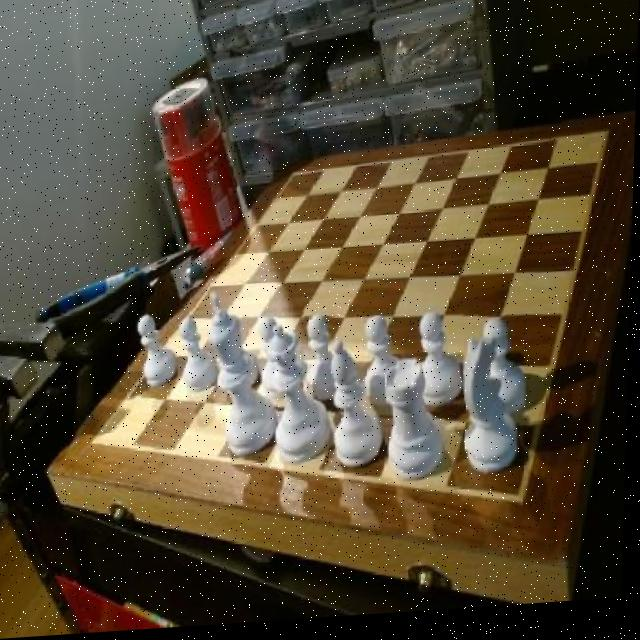black-rook: (331, 324, 384, 481)
white-bishop: (205, 283, 282, 466)
white-king: (458, 344, 525, 492)
white-knight: (478, 315, 532, 430), (412, 312, 468, 417), (358, 317, 408, 415), (304, 321, 346, 413), (137, 313, 180, 401), (182, 314, 215, 399), (259, 321, 289, 405)
white-pawn: (272, 310, 335, 474)
white-queen: (380, 362, 451, 495)
